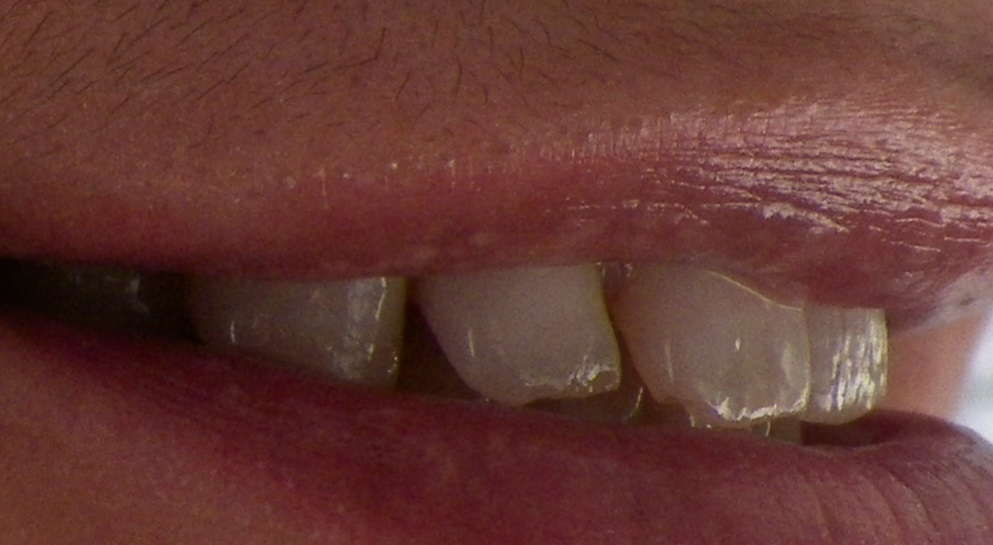boca: (50, 267, 887, 439)
